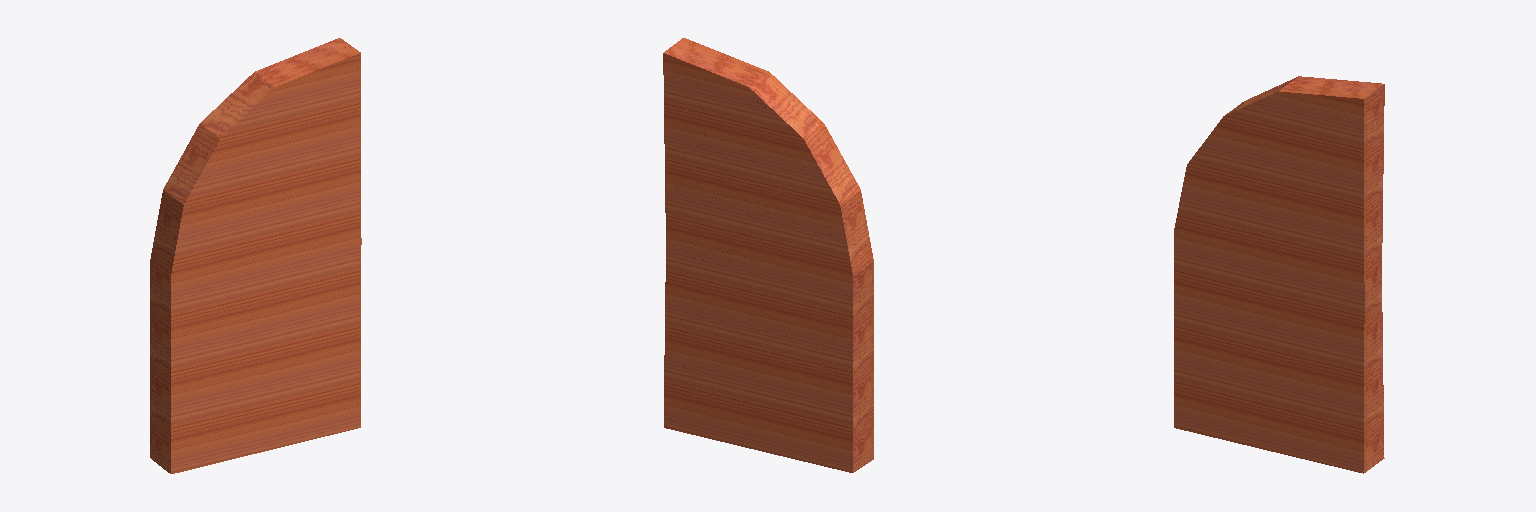
3 renders of one model, left to right at view 1: azimuth 30°, elevation 25°; view 2: azimuth 150°, elevation 25°; view 3: azimuth 330°, elevation 25°, orthographic.
Parts seen in each view (by area): view 1: p1Izq1:pCube81; view 2: p1Izq1:pCube81; view 3: p1Izq1:pCube81.
Boxes of the visible parts, box(x1,y1,x2,y2) form: p1Izq1:pCube81: box(150, 38, 361, 473); p1Izq1:pCube81: box(663, 38, 873, 472); p1Izq1:pCube81: box(1174, 76, 1384, 473).
Size of the model in its own units: 2.65 by 4.99 by 0.5.
Materials: 1 (1 with a texture image).